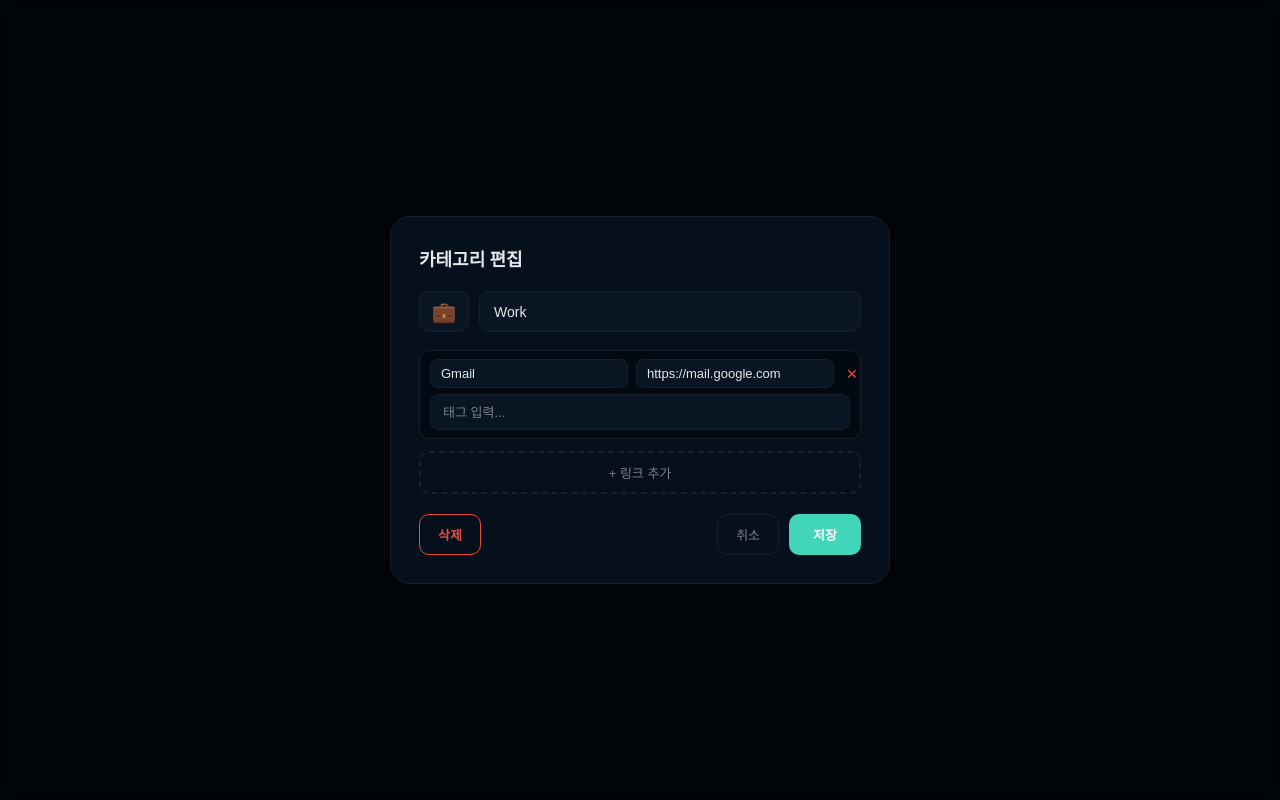
Test: EditModal › adds a new link when "+ 링크 추가" is clicked
This screenshot has width=1280, height=800.
Step 1. Click the button "+ 링크 추가" → (640, 472), box [419,451,861,494]
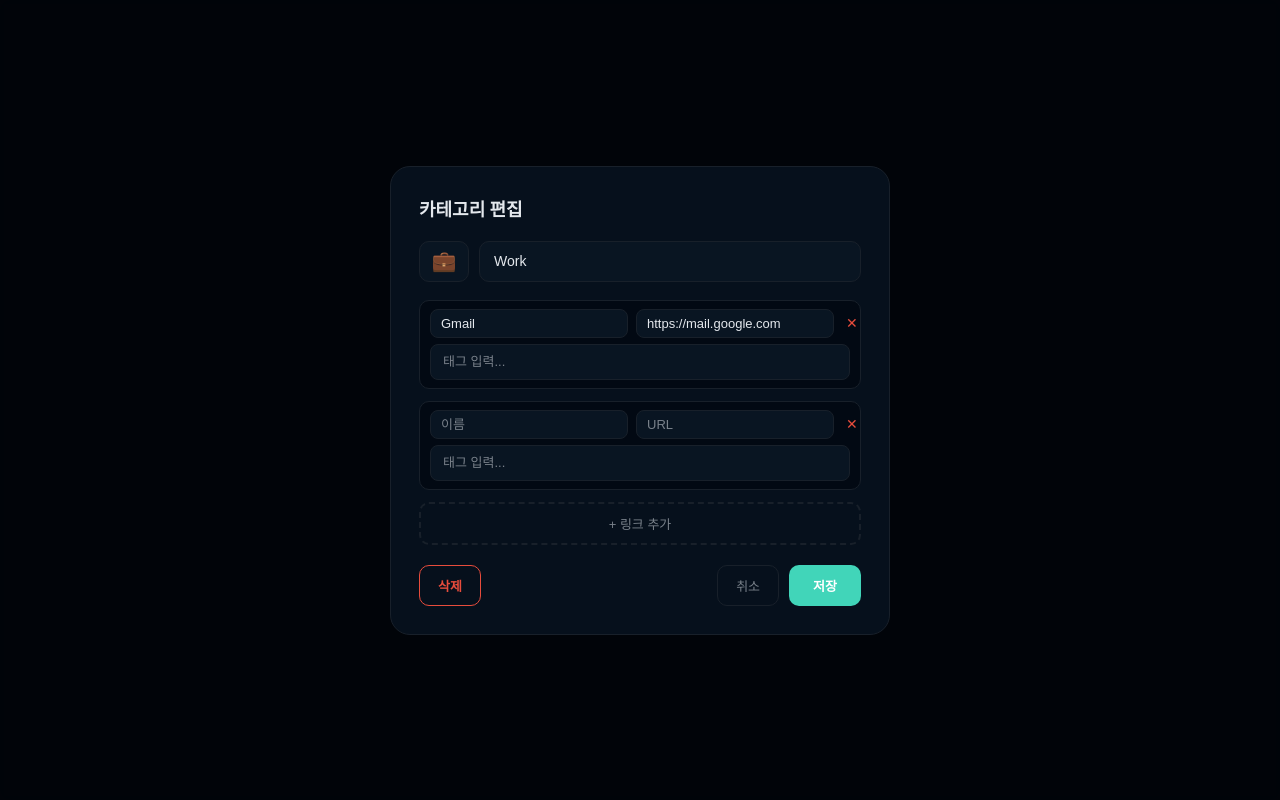
Expected: the number of fields with placeholder "이름" is 2, [430,308,628,338]; [430,410,628,438]
